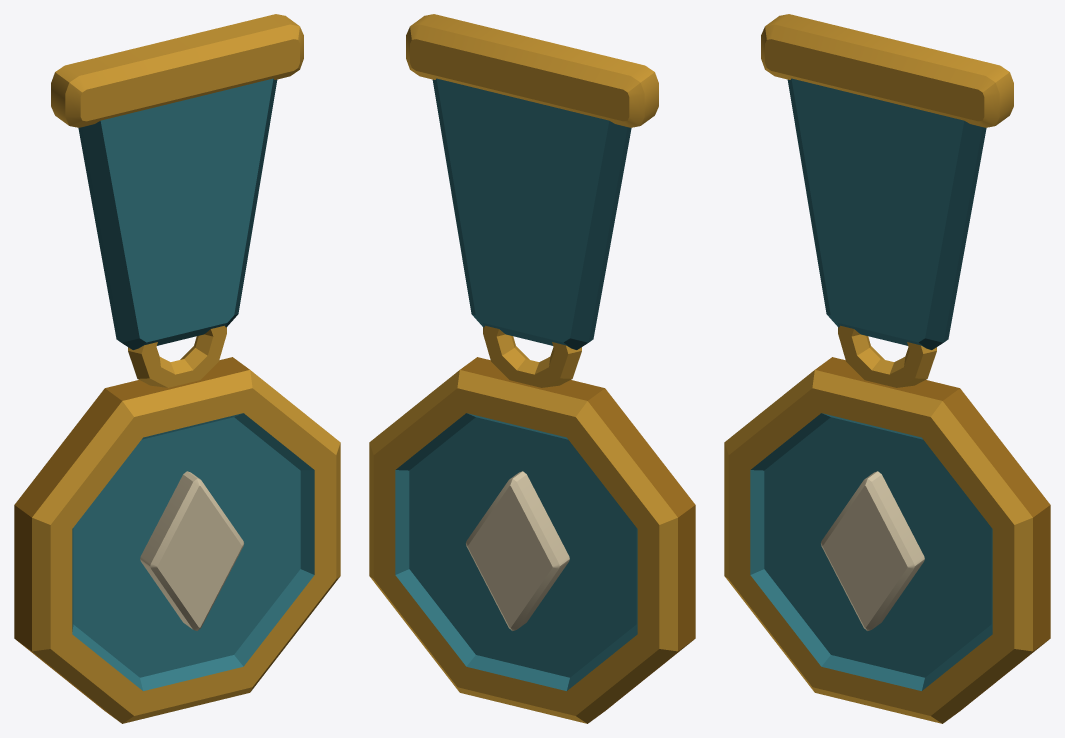
The model's file is Medal_38.glb.
3 renders of one model, left to right at view 1: azimuth 30°, elevation 25°; view 2: azimuth 150°, elevation 25°; view 3: azimuth 330°, elevation 25°, orthographic.
Parts seen in each view (by area): view 1: Medal_38; view 2: Medal_38; view 3: Medal_38.
Part boxes in pixels (x1,y1,x2,y2): Medal_38: (14, 14, 340, 723); Medal_38: (369, 14, 695, 723); Medal_38: (724, 14, 1050, 723).
Size of the model in its own units: 1.12 by 2.28 by 0.28.
